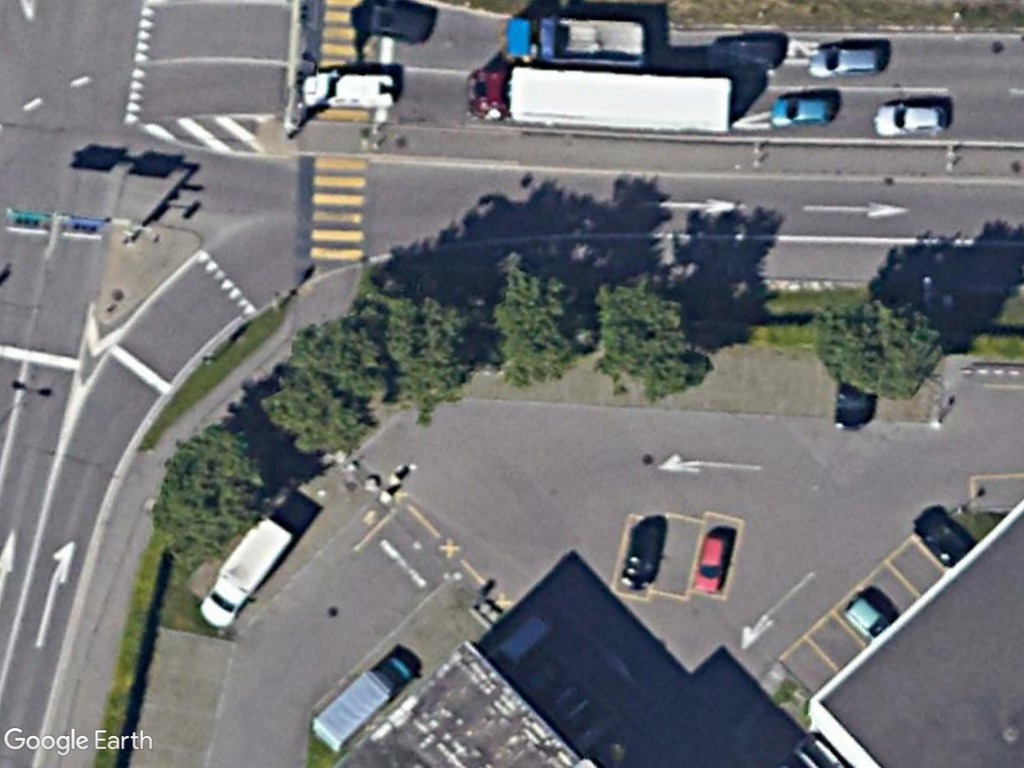car: (803, 46, 887, 82), (766, 92, 840, 130), (873, 102, 950, 138)
longvehicle: (464, 61, 735, 136)
others: (500, 14, 651, 68)
truck: (193, 514, 299, 632), (307, 650, 418, 757)
